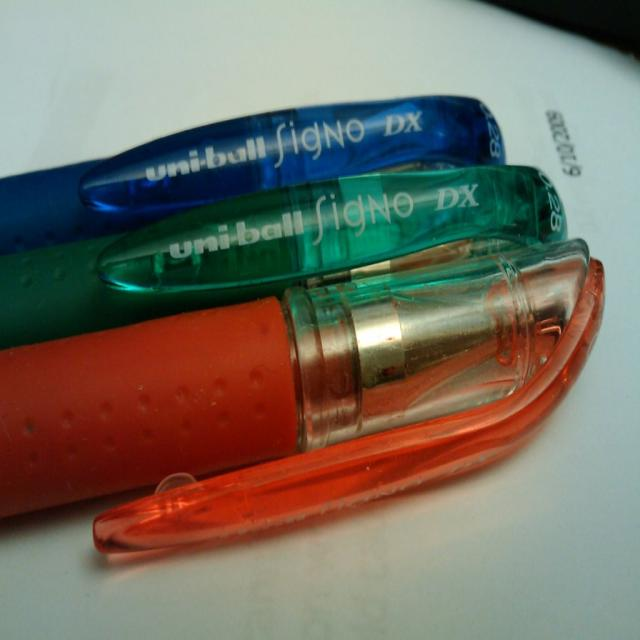pen: (0, 219, 612, 535), (1, 157, 576, 356), (0, 89, 513, 247)
